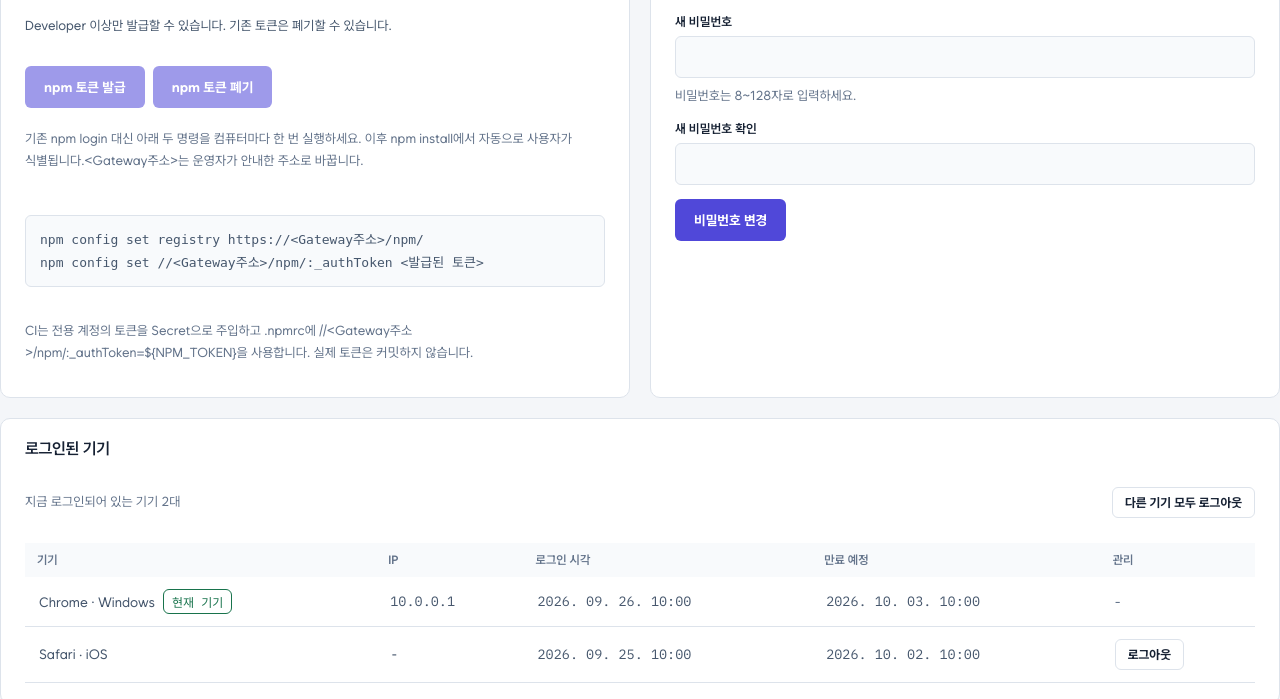
it: sessions › signs out all other devices
(page scrolled)
What coordinates should you click on to do the following:
click the button "다른 기기 모두 로그아웃"
I would click on:
 (1183, 502)
Its box is [1112,487,1255,518].
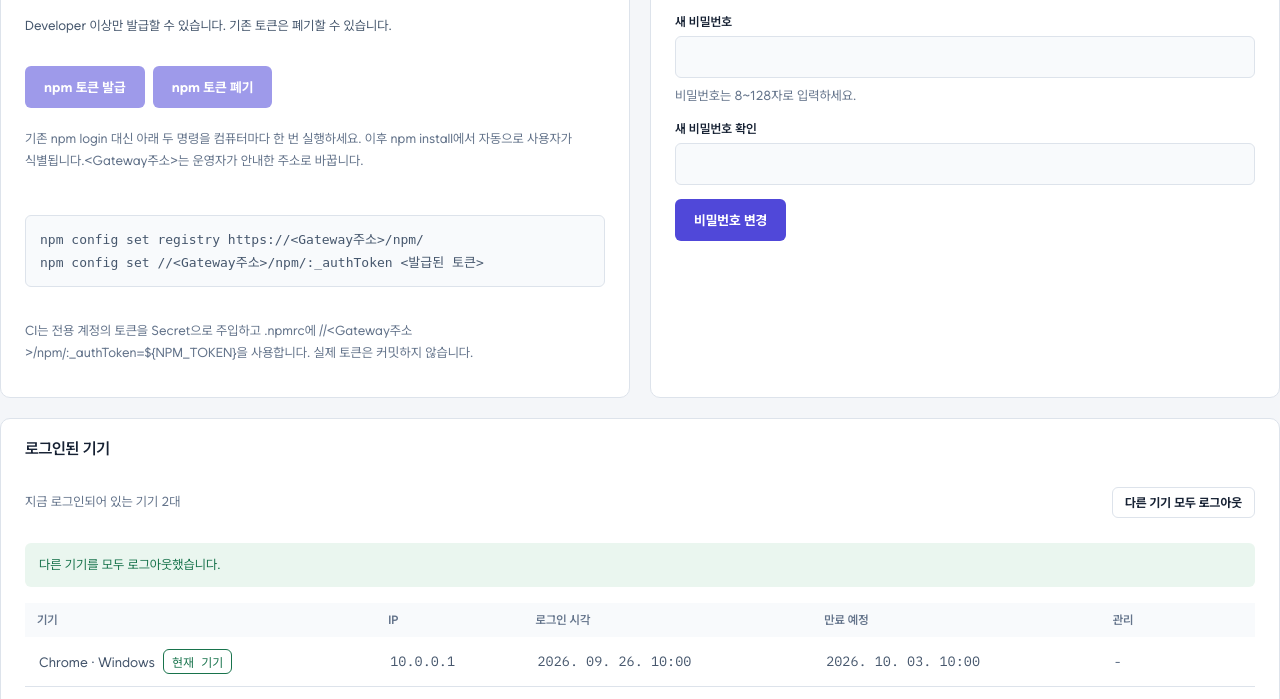
expect the message reads "다른 기기를 모두 로그아웃했습니다.": met, box [39,557,220,572]
